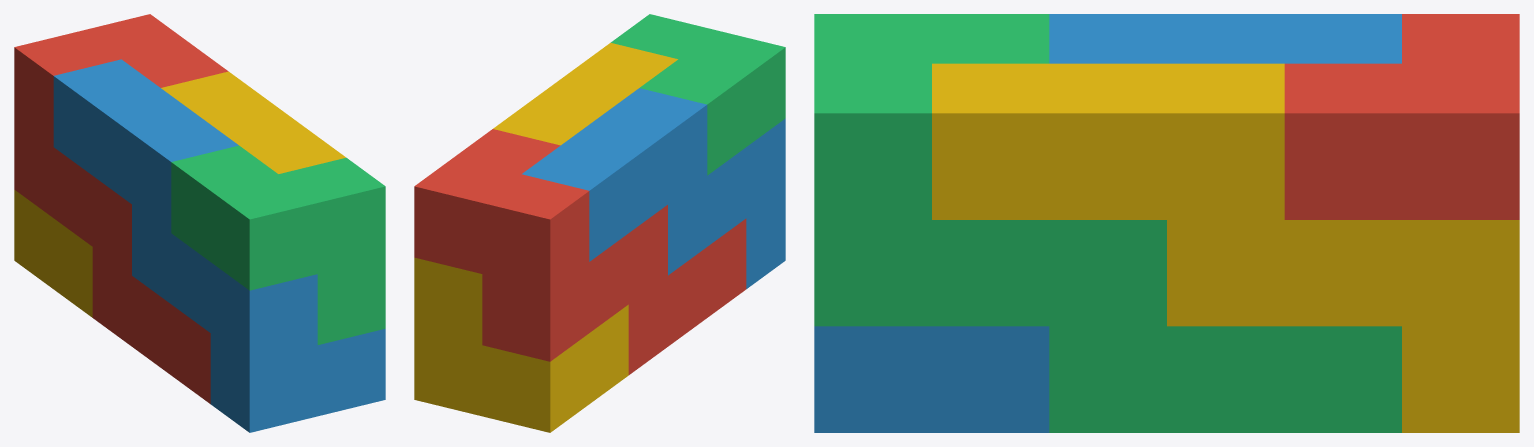
The model's file is tiling.obj.
The picture shows the model from 3 angles, left to right: view 1: azimuth 30°, elevation 25°; view 2: azimuth 150°, elevation 25°; view 3: azimuth 270°, elevation 25°; orthographic projection. The views are drawn at different scales.
Visible parts, largest first — view 1: copy_2, copy_3, copy_1, copy_4; view 2: copy_1, copy_4, copy_2, copy_3; view 3: copy_4, copy_3, copy_2, copy_1.
Part boxes in pixels (x1,y1,x2,y2): copy_2: [53, 59, 385, 432]; copy_3: [171, 145, 385, 344]; copy_1: [14, 14, 228, 403]; copy_4: [14, 71, 345, 317]; copy_1: [414, 129, 746, 374]; copy_4: [414, 42, 677, 432]; copy_2: [522, 88, 785, 288]; copy_3: [611, 14, 785, 175]; copy_4: [932, 63, 1519, 432]; copy_3: [814, 14, 1401, 432]; copy_2: [814, 14, 1401, 432]; copy_1: [1284, 14, 1519, 219].
Bounding box in the file's own units: 2 × 3 × 6.
